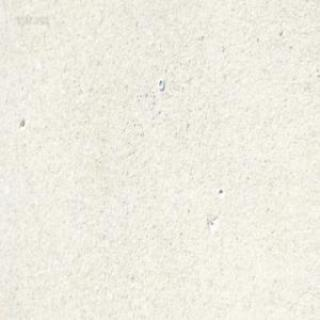Washertrack_idkeyframe: (156, 76, 164, 89)
